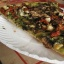pizza: (1, 4, 64, 56)
